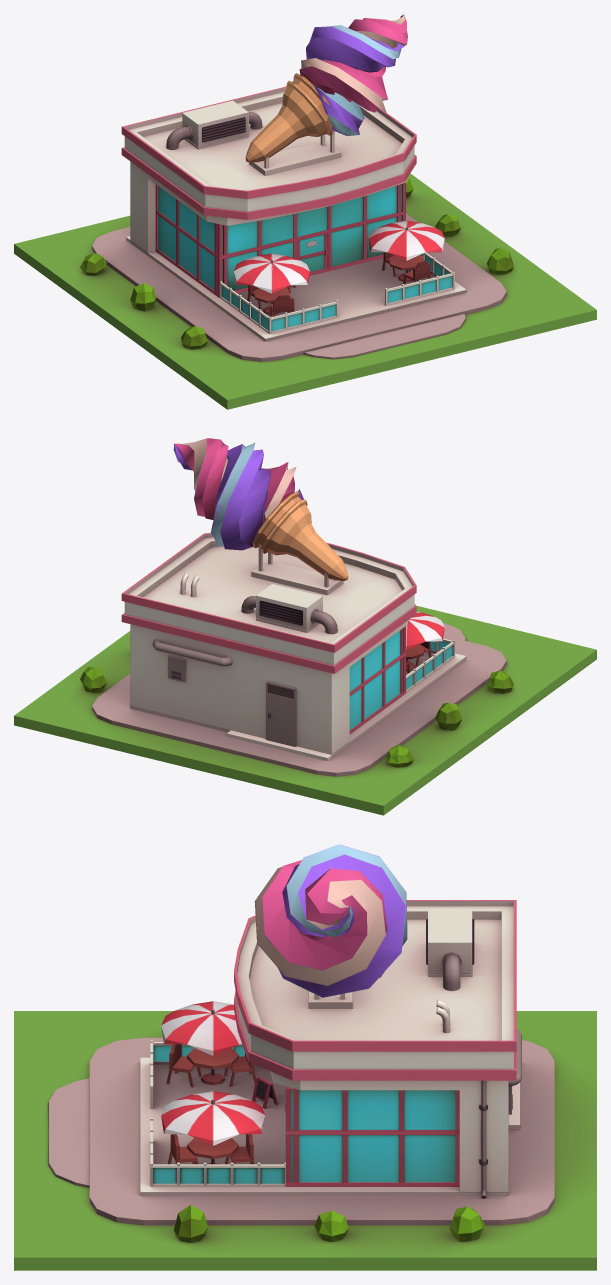
File: ice_cream_shop.glb
3 renders of one model, top to bottom at view 1: azimuth 30°, elevation 25°; view 2: azimuth 150°, elevation 25°; view 3: azimuth 270°, elevation 25°, orthographic. The views are drawn at different scales.
Parts seen in each view (by area): view 1: ice_cream_shop_building, ice_cream_road, ice_cream_shop_windows; view 2: ice_cream_shop_building, ice_cream_road, ice_cream_shop_windows; view 3: ice_cream_road, ice_cream_shop_building, ice_cream_shop_windows.
Part boxes in pixels (x1,y1,x2,y2): ice_cream_shop_building: (80, 14, 513, 349); ice_cream_road: (14, 173, 596, 409); ice_cream_shop_windows: (158, 183, 452, 331); ice_cream_shop_building: (80, 438, 513, 767); ice_cream_road: (14, 605, 596, 815); ice_cream_shop_windows: (349, 628, 452, 730); ice_cream_road: (14, 1011, 596, 1270); ice_cream_shop_building: (150, 844, 521, 1242); ice_cream_shop_windows: (153, 1045, 455, 1183).
Size of the model in its own units: 1294 by 807 by 1294.
Materials: 3 (3 with a texture image).
